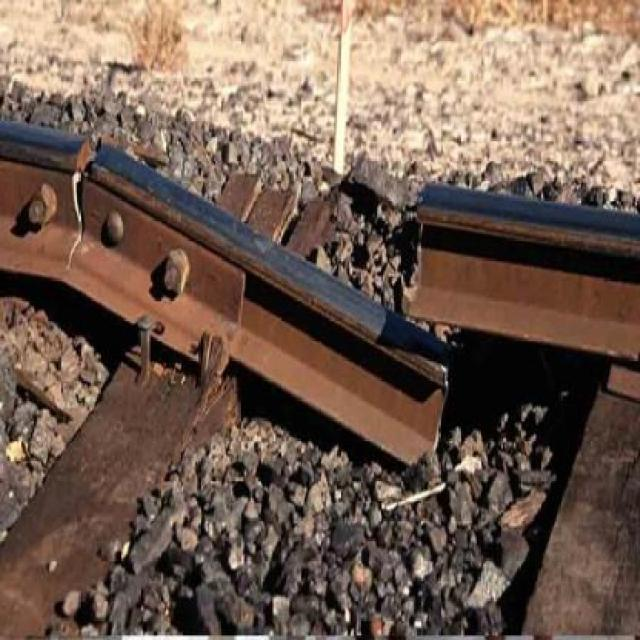defective: (6, 51, 637, 563)
